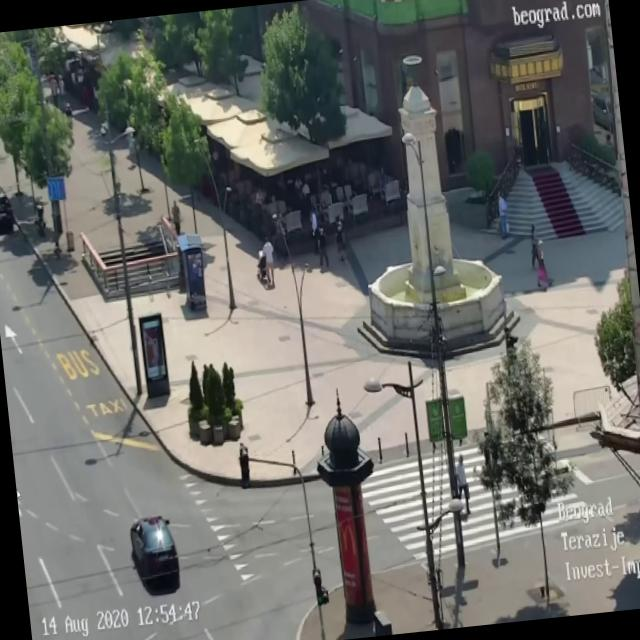car: (128, 512, 181, 594), (0, 181, 11, 229)
